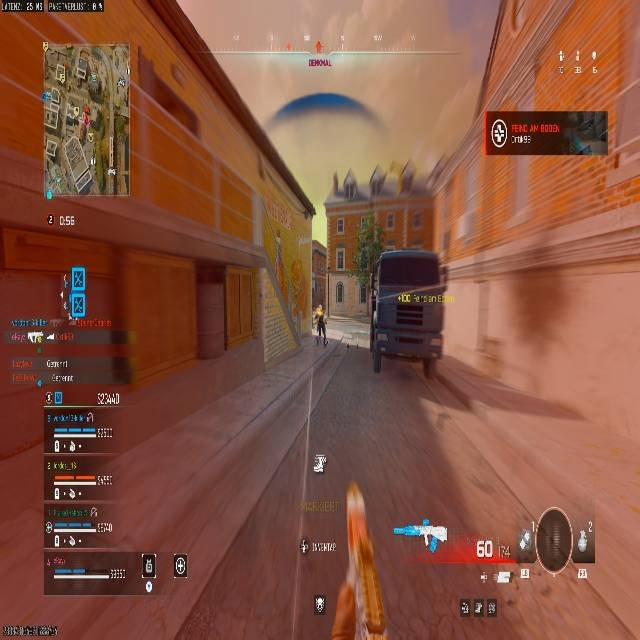player: (312, 303, 327, 343)
